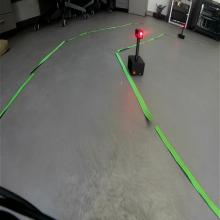red: (134, 28, 145, 40)
